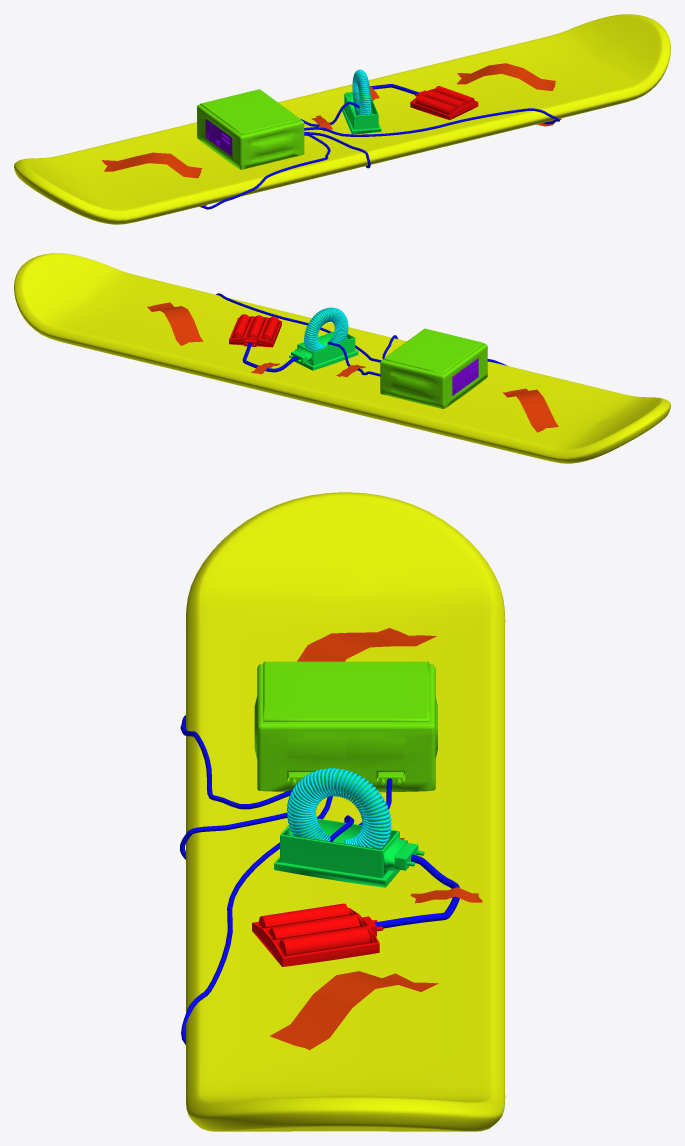
The model's file is Challenge_Creatif.fbx.
3 views of the same model, one above another, from view 1: azimuth 30°, elevation 25°; view 2: azimuth 150°, elevation 25°; view 3: azimuth 270°, elevation 25° (orthographic). The views are drawn at different scales.
Visible parts, largest first — view 1: SkateBase, Transmodulateur, Scotch, Cables, Piles, Bobine, bobineruban, CircuitLowPoly; view 2: SkateBase, Transmodulateur, Scotch, Bobine, Piles, bobineruban, Cables, CircuitLowPoly; view 3: SkateBase, Transmodulateur, Scotch, Bobine, Piles, bobineruban, Cables.
Boxes of the visible parts, left/top/right/bottom form: SkateBase: left=14, top=14, right=670, bottom=224; Transmodulateur: left=197, top=89, right=304, bottom=169; Scotch: left=102, top=63, right=561, bottom=208; Cables: left=201, top=84, right=559, bottom=209; Piles: left=410, top=86, right=478, bottom=120; Bobine: left=341, top=76, right=381, bottom=134; bobineruban: left=352, top=69, right=371, bottom=115; CircuitLowPoly: left=205, top=119, right=232, bottom=156; SkateBase: left=14, top=253, right=670, bottom=463; Transmodulateur: left=380, top=328, right=487, bottom=408; Scotch: left=147, top=302, right=558, bottom=432; Bobine: left=289, top=309, right=358, bottom=370; Piles: left=229, top=314, right=281, bottom=347; bobineruban: left=304, top=307, right=348, bottom=351; Cables: left=216, top=293, right=507, bottom=376; CircuitLowPoly: left=452, top=358, right=478, bottom=395; SkateBase: left=186, top=492, right=505, bottom=1131; Transmodulateur: left=254, top=661, right=437, bottom=792; Scotch: left=270, top=628, right=482, bottom=1050; Bobine: left=274, top=770, right=424, bottom=887; Piles: left=252, top=903, right=383, bottom=966; bobineruban: left=287, top=768, right=391, bottom=849; Cables: left=180, top=715, right=459, bottom=1044.
Bounding box in the file's own units: 98.38 × 10.52 × 21.89.
